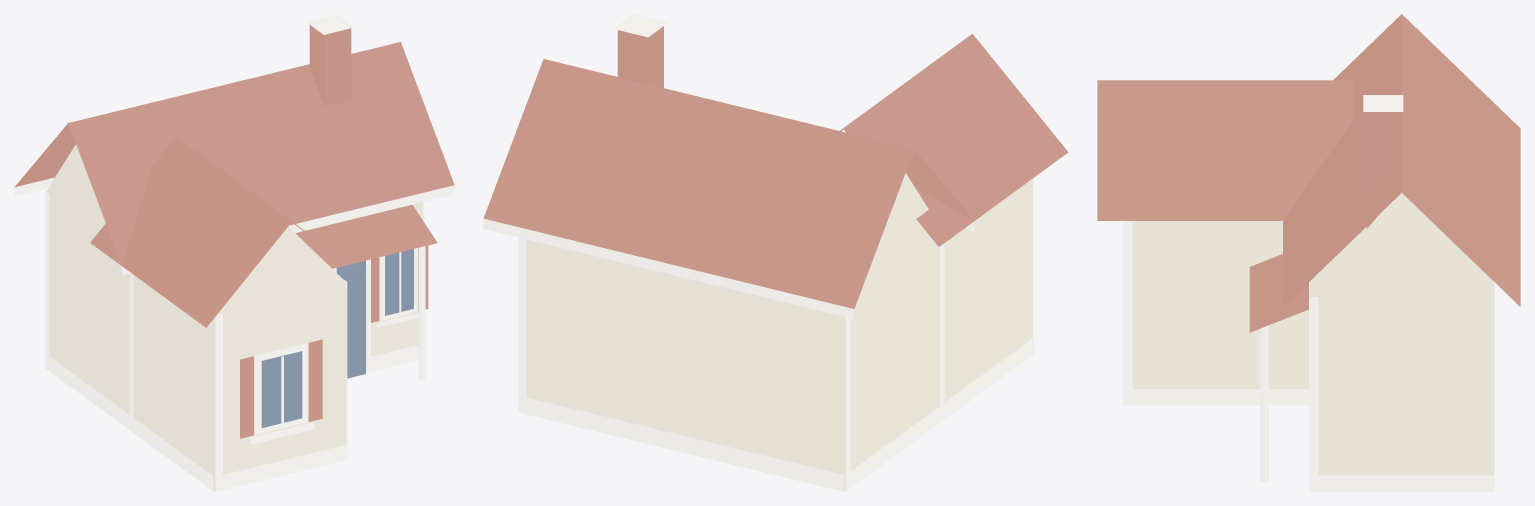
The model's file is Blender_House_Lshape_1.glb.
3 views of the same model, side by side, from view 1: azimuth 30°, elevation 25°; view 2: azimuth 150°, elevation 25°; view 3: azimuth 270°, elevation 25° (orthographic). The views are drawn at different scales.
Visible parts, largest first — view 1: Blender_House_Lshape_1; view 2: Blender_House_Lshape_1; view 3: Blender_House_Lshape_1.
Part boxes in pixels (left/top/right/bottom): Blender_House_Lshape_1: left=14, top=14, right=454, bottom=491; Blender_House_Lshape_1: left=483, top=14, right=1068, bottom=491; Blender_House_Lshape_1: left=1097, top=14, right=1520, bottom=491.
Bounding box in the file's own units: 1.14 × 1.06 × 1.14.
